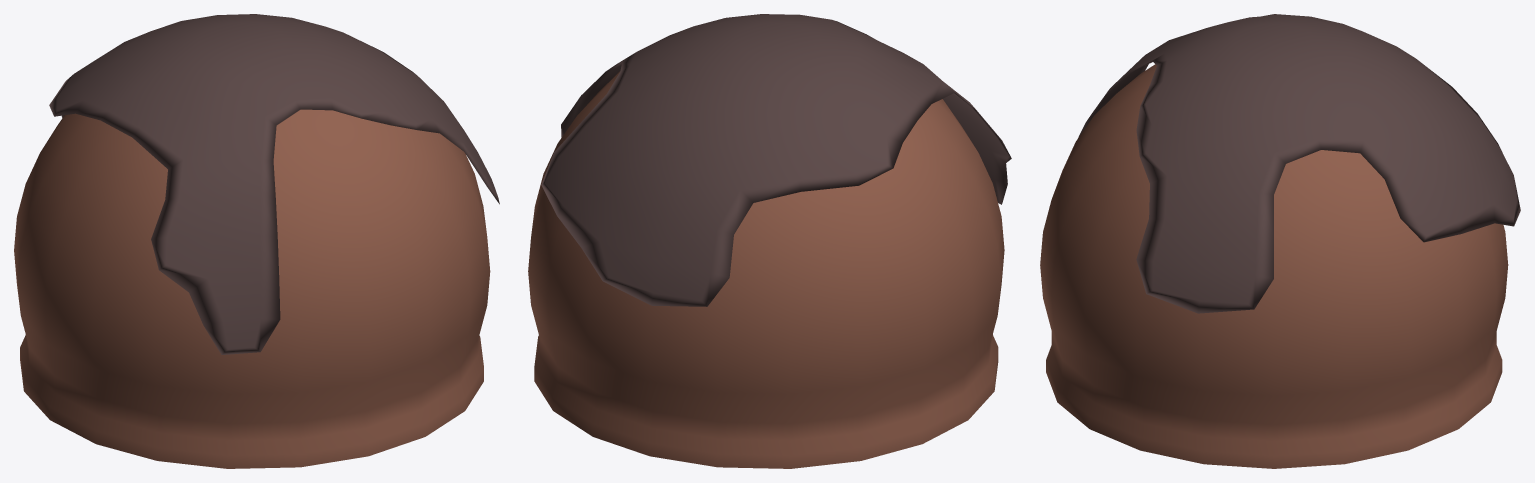
File: BonBon.fbx
3 views of the same model, side by side, from view 1: azimuth 30°, elevation 25°; view 2: azimuth 150°, elevation 25°; view 3: azimuth 270°, elevation 25° (orthographic). The views are drawn at different scales.
Parts seen in each view (by area): view 1: BonBon; view 2: BonBon; view 3: BonBon.
Boxes of the visible parts, x1,y1,x2,y2 form: BonBon: (14, 14, 499, 468); BonBon: (528, 14, 1011, 468); BonBon: (1040, 14, 1520, 468).
Bounding box in the file's own units: 26.03 × 19.72 × 26.26.
